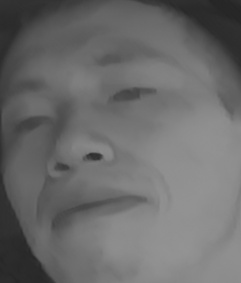eye: (102, 81, 157, 113), (2, 111, 52, 138)
mouth: (37, 186, 146, 237)
